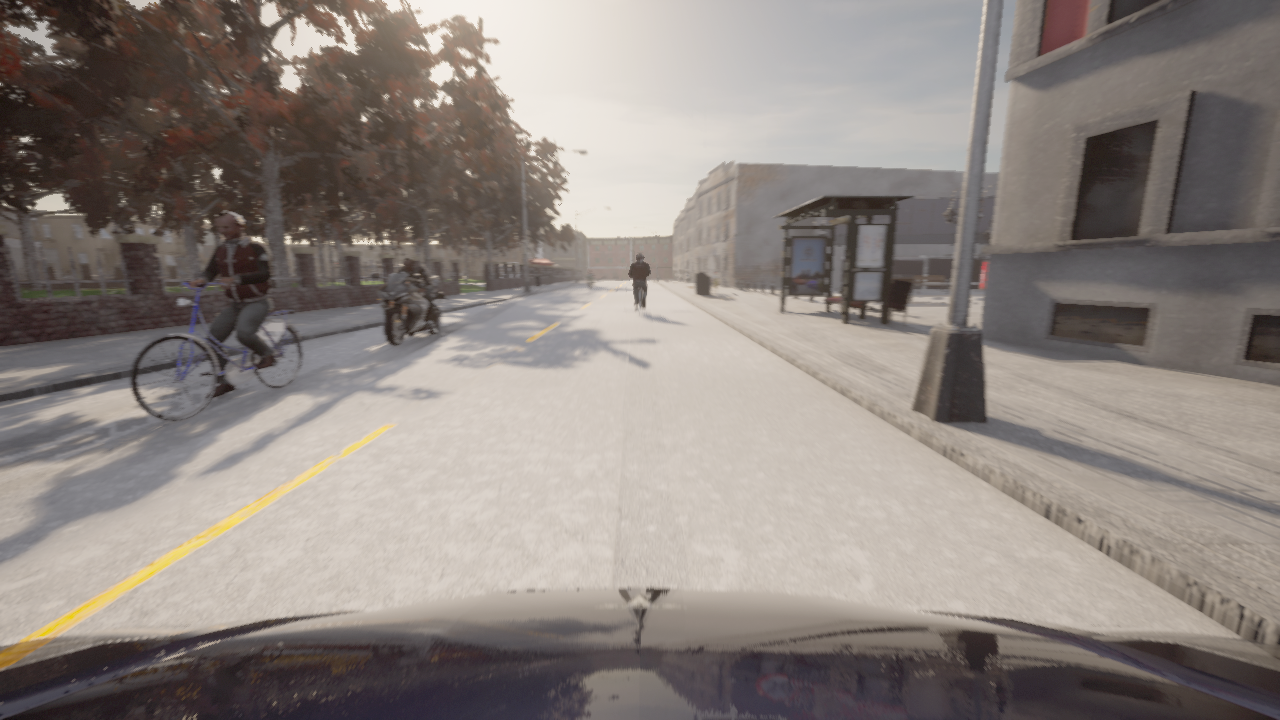cyclist: (0, 588, 1279, 719), (131, 281, 301, 421), (371, 272, 446, 345), (635, 287, 641, 309), (587, 274, 594, 289)
pedestrian: (712, 271, 719, 293)
